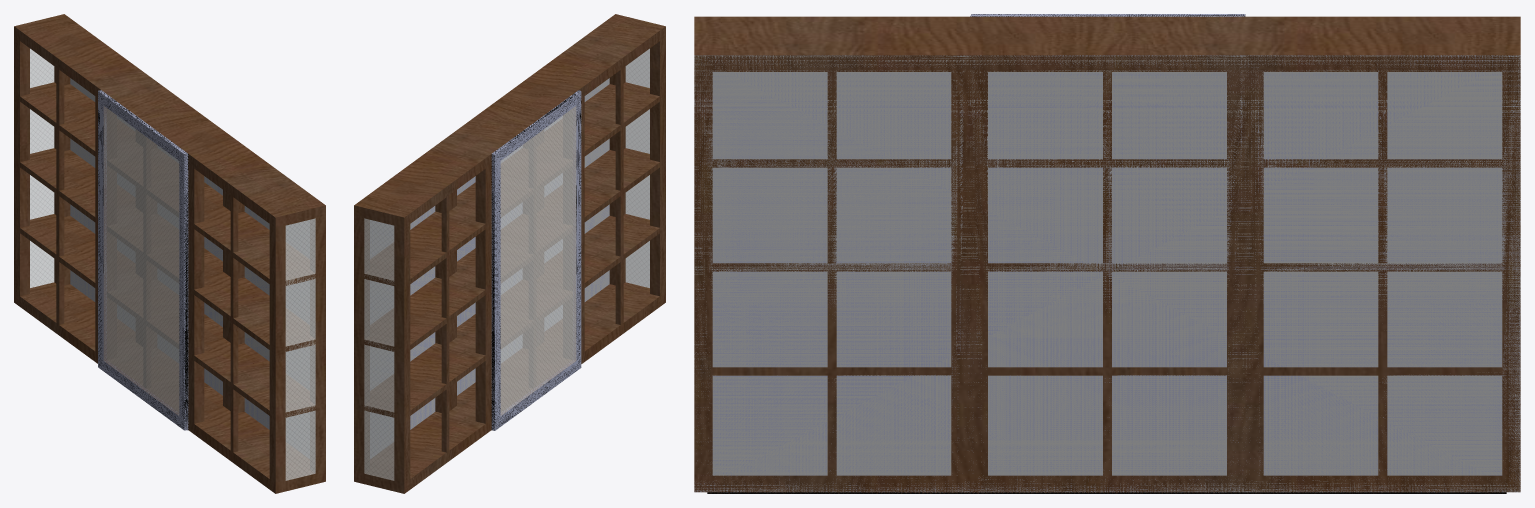
The model's file is bookshelf.fbx.
3 views of the same model, side by side, from view 1: azimuth 30°, elevation 25°; view 2: azimuth 150°, elevation 25°; view 3: azimuth 270°, elevation 25° (orthographic). The views are drawn at different scales.
Visible parts, largest first — view 1: Component_1_1, Group1; view 2: Component_1_1, Group1; view 3: Group1, Component_1_1.
Boxes of the visible parts, bbox=[...] form: Component_1_1: bbox=[14, 14, 325, 493]; Group1: bbox=[30, 48, 315, 480]; Component_1_1: bbox=[354, 14, 665, 493]; Group1: bbox=[364, 48, 649, 480]; Group1: bbox=[694, 14, 1520, 492]; Component_1_1: bbox=[694, 16, 1520, 493].
Bounding box in the file's own units: 1.4 × 6.99 × 11.81.
Materials: 7 (2 with a texture image).
